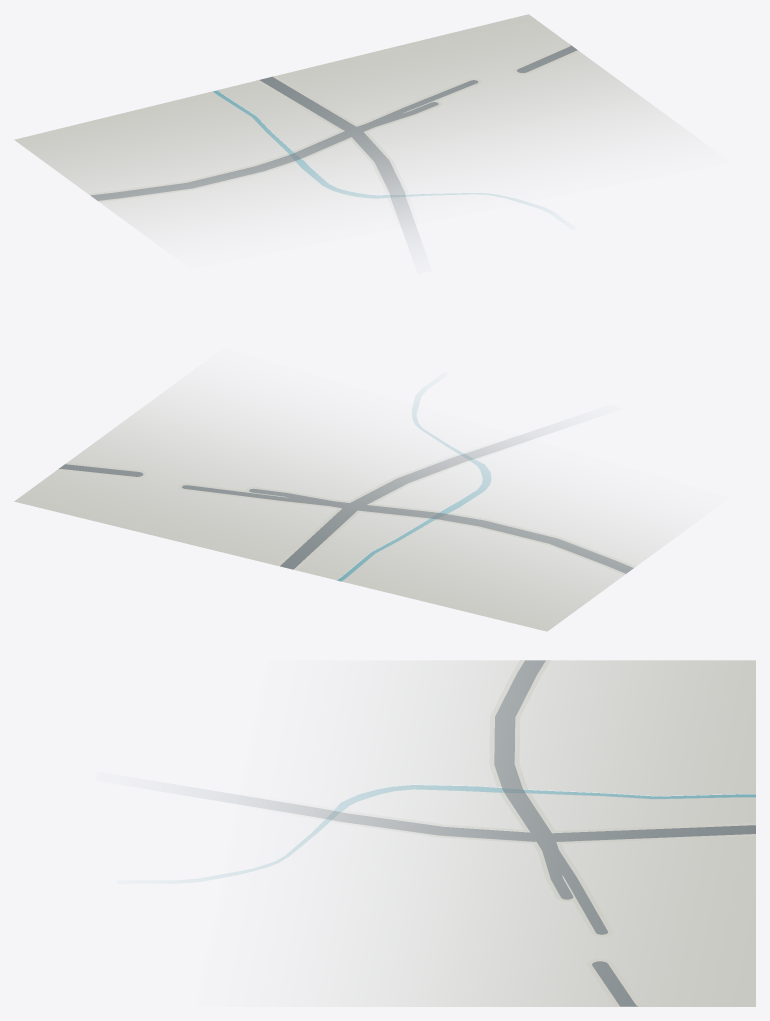
3 renders of one model, top to bottom at view 1: azimuth 30°, elevation 25°; view 2: azimuth 150°, elevation 25°; view 3: azimuth 270°, elevation 25°, orthographic. The views are drawn at different scales.
Parts seen in each view (by area): view 1: city; view 2: city; view 3: city.
Boxes of the visible parts, left/top/right/bottom form: city: left=14, top=14, right=694, bottom=243; city: left=14, top=374, right=692, bottom=631; city: left=195, top=660, right=755, bottom=1006.
Size of the model in its own units: 500 by 0.4 by 453.
